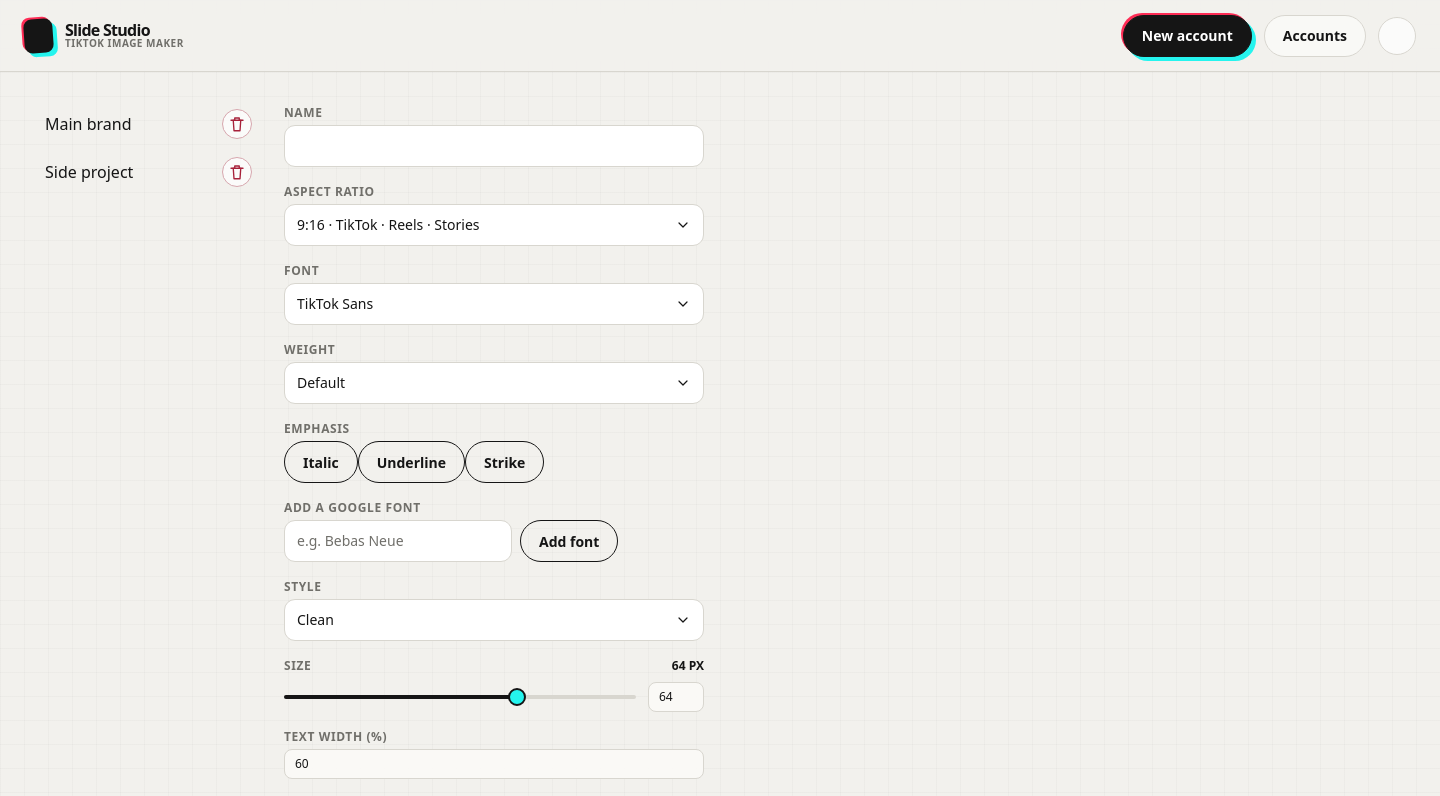
Test case: deletes an empty account
Click the button named "Delete Side project": (237, 172) [222, 157, 252, 187]
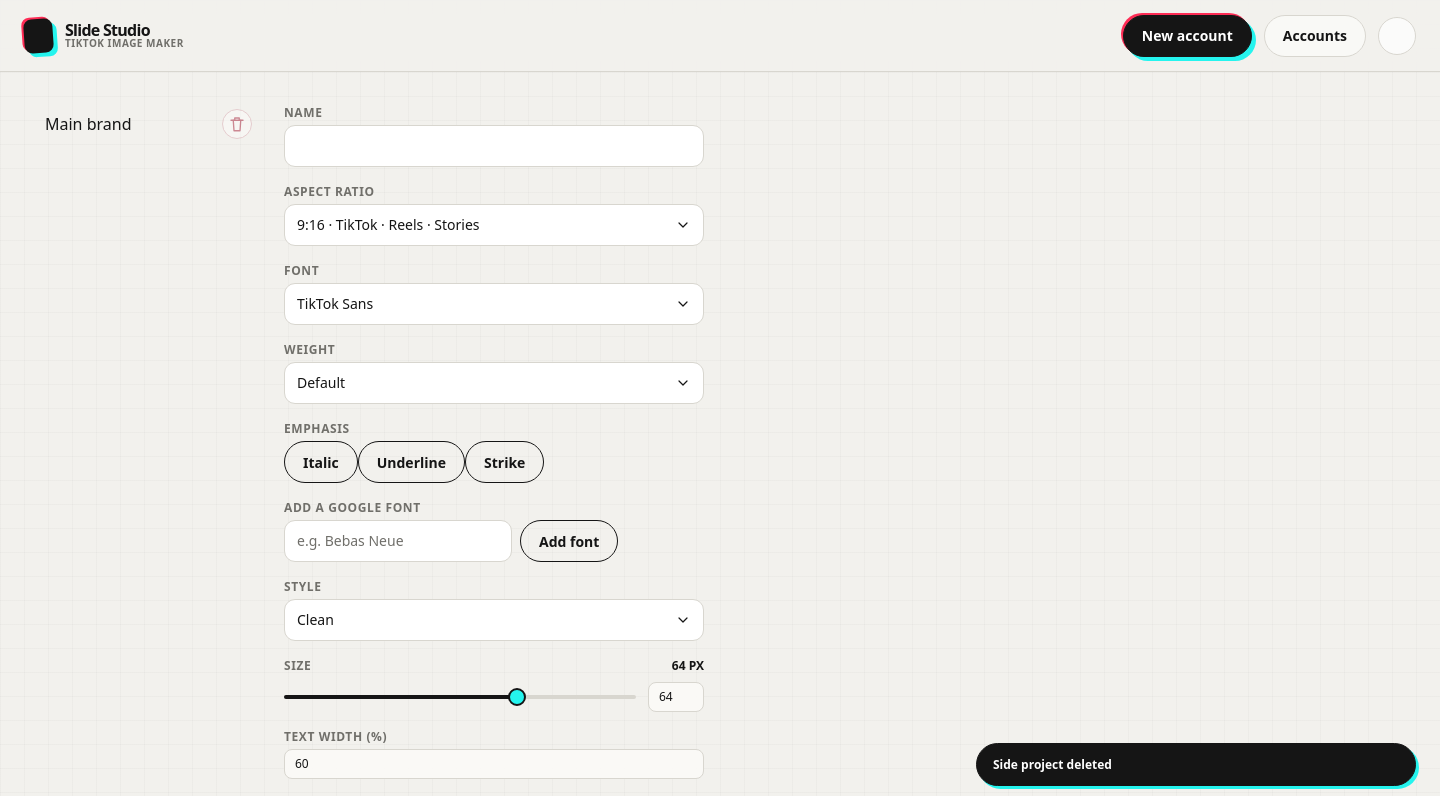
Expected: the text "Side project deleted" is shown, [993, 756, 1112, 773]
